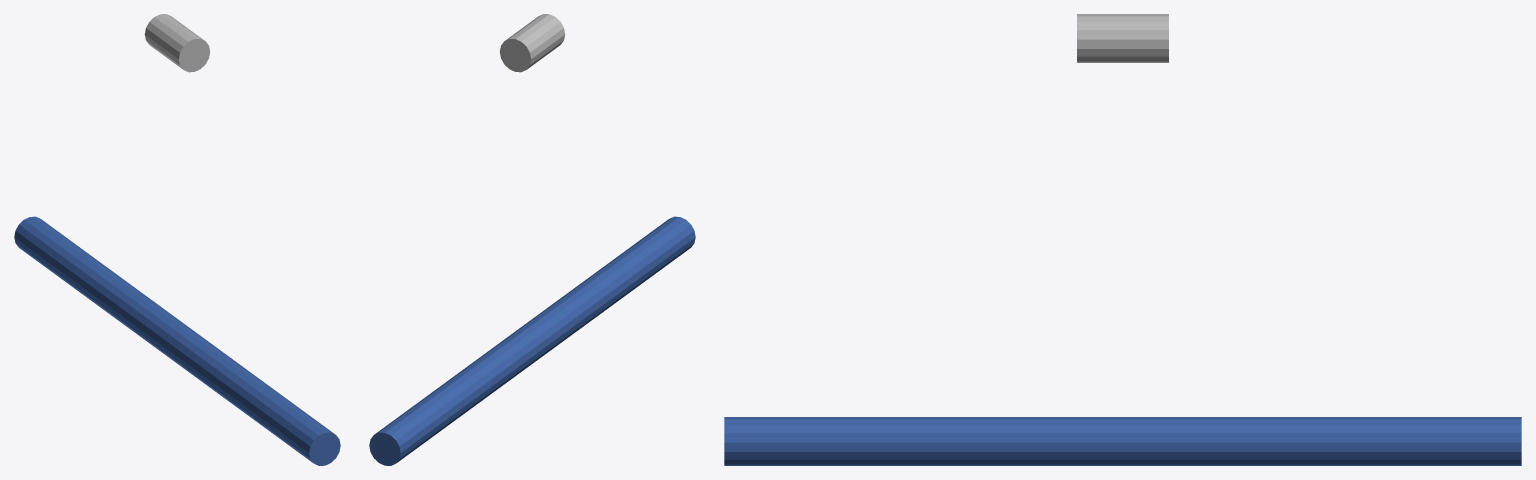
The model's file is lapicero.glb.
The picture shows the model from 3 angles, left to right: view 1: azimuth 30°, elevation 25°; view 2: azimuth 150°, elevation 25°; view 3: azimuth 270°, elevation 25°; orthographic projection. The views are drawn at different scales.
Visible parts, largest first — view 1: pen_body, pen_tip; view 2: pen_body, pen_tip; view 3: pen_body, pen_tip.
Boxes of the visible parts, x1,y1,x2,y2 form: pen_body: [14, 216, 340, 465]; pen_tip: [144, 14, 210, 72]; pen_body: [369, 216, 695, 465]; pen_tip: [499, 14, 565, 72]; pen_body: [724, 417, 1521, 465]; pen_tip: [1077, 14, 1168, 62].
Bounding box in the file's own units: 0.008 × 0.0805 × 0.13.
